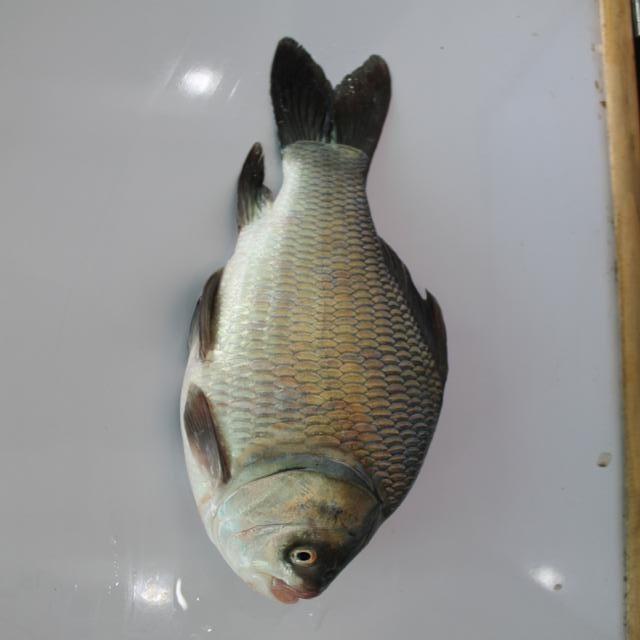Catla: (161, 29, 450, 617)
